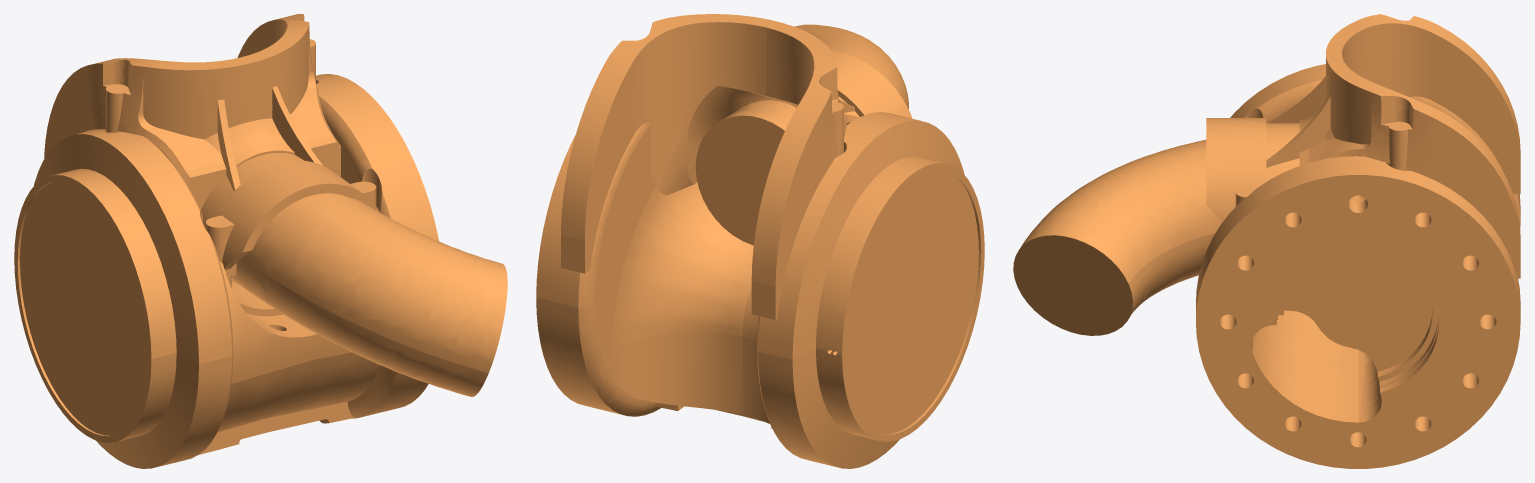
3 views of the same model, side by side, from view 1: azimuth 30°, elevation 25°; view 2: azimuth 150°, elevation 25°; view 3: azimuth 270°, elevation 25° (orthographic). The views are drawn at different scales.
Visible parts, largest first — view 1: mesh_0; view 2: mesh_0; view 3: mesh_0.
Part boxes in pixels (bbox=[...]): mesh_0: bbox=[14, 14, 507, 468]; mesh_0: bbox=[536, 14, 984, 468]; mesh_0: bbox=[1013, 14, 1520, 468].
Size of the model in its own units: 0.1901 by 0.2424 by 0.3124.
